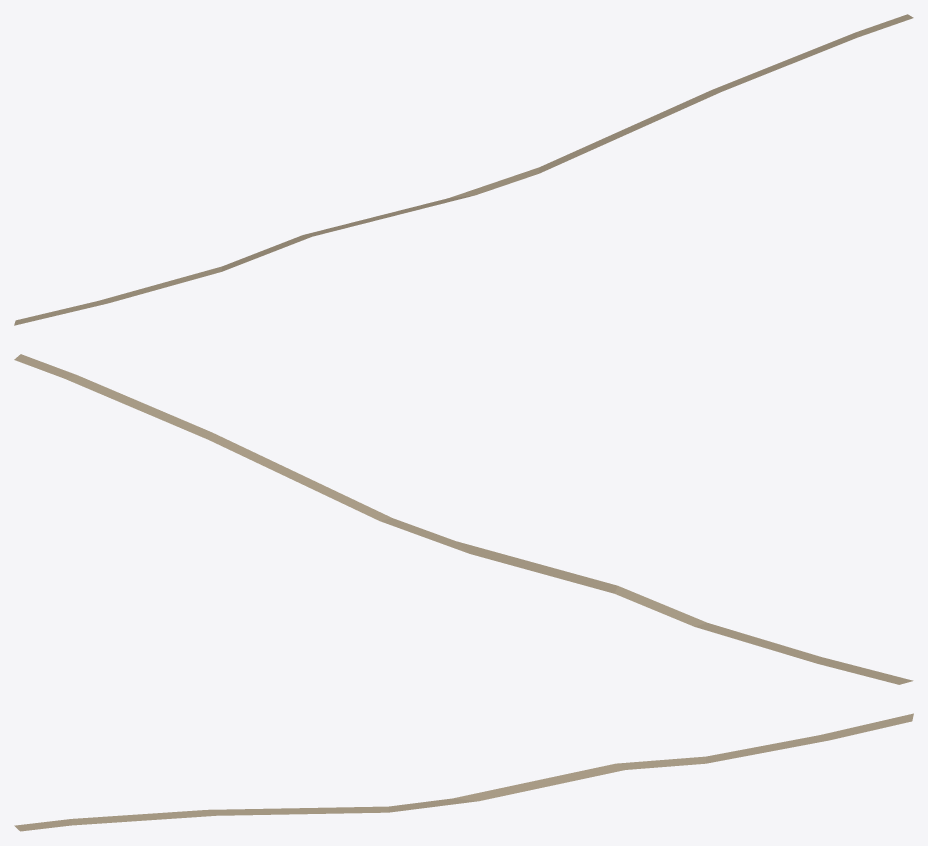
The model's file is farm_-14_-26_track.glb.
The picture shows the model from 3 angles, top to bottom: view 1: azimuth 90°, elevation 25°; view 2: azimuth 210°, elevation 25°; view 3: azimuth 270°, elevation 25°; orthographic projection.
Parts seen in each view (by area): view 1: geometry_0; view 2: geometry_0; view 3: geometry_0.
Boxes of the visible parts, x1,y1,x2,y2 form: geometry_0: (14, 14, 913, 325); geometry_0: (14, 354, 913, 684); geometry_0: (14, 713, 913, 831).
Bounding box in the file's own units: 128 × 27.56 × 227.
